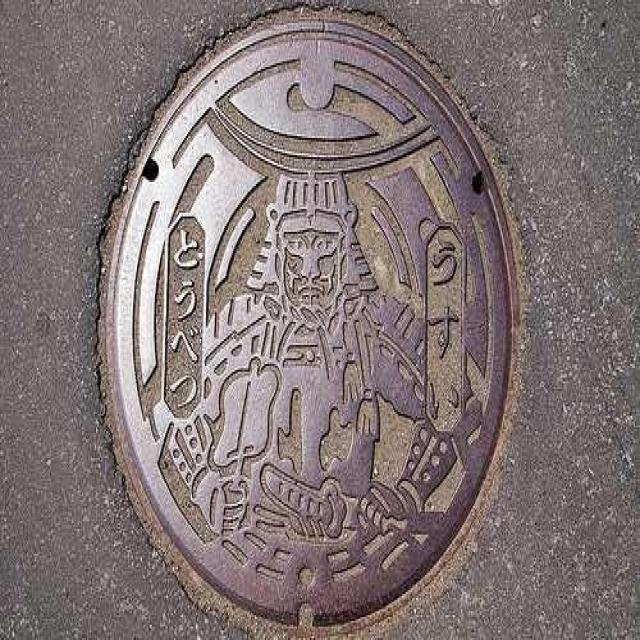manhole: (101, 11, 520, 629)
